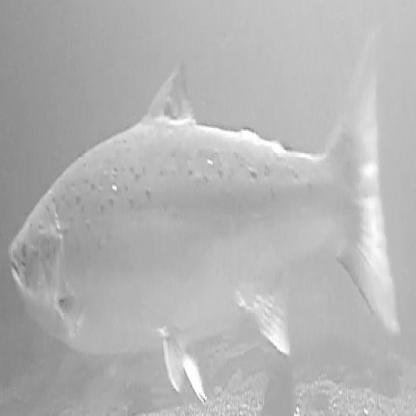salmon: (8, 16, 401, 413)
